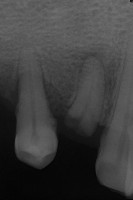Furcation Involvement: (73, 45, 106, 63)
